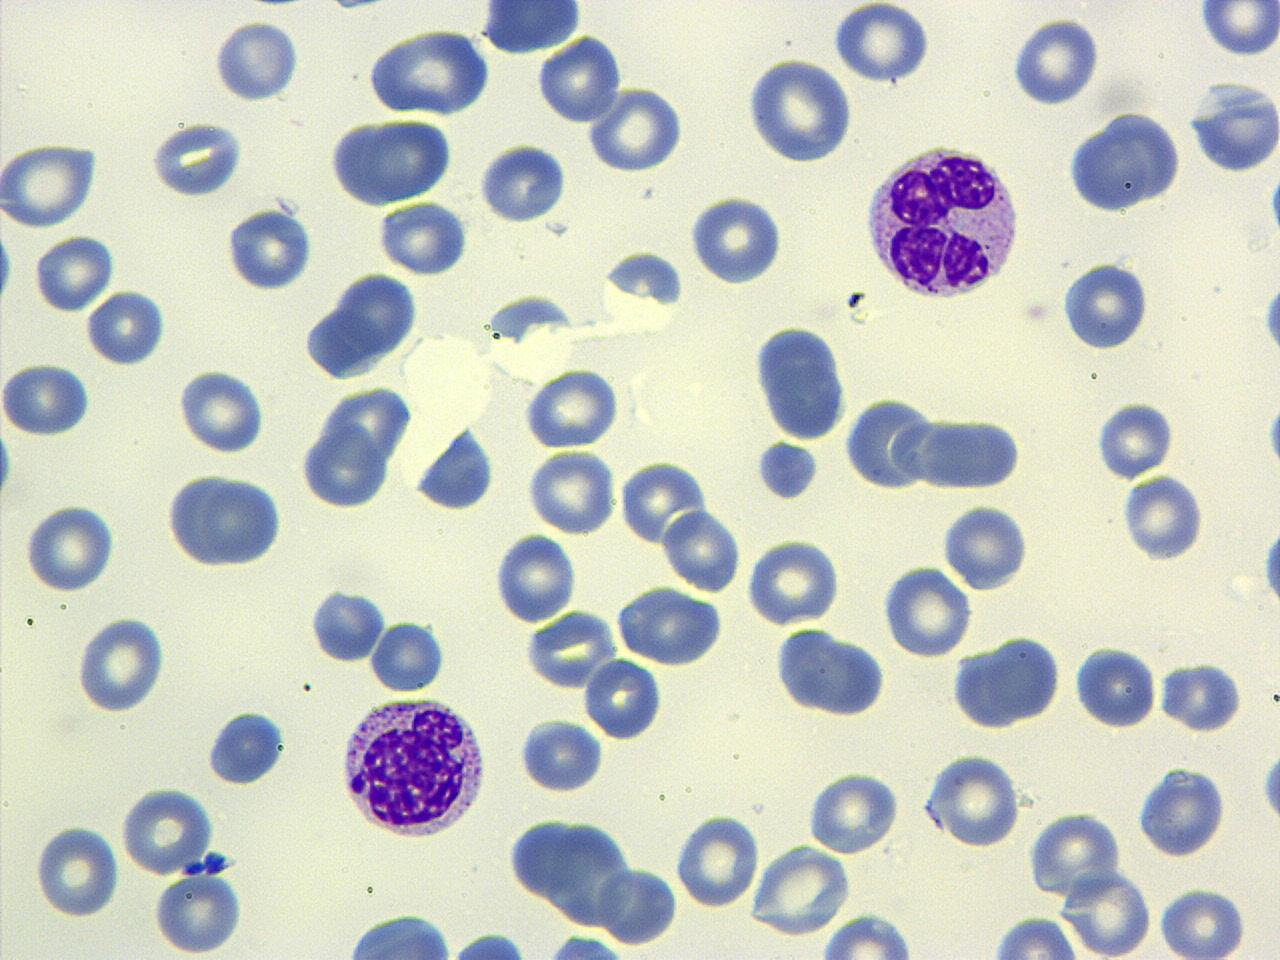Platelets: (149, 864, 253, 954), (1008, 13, 1104, 110), (1060, 257, 1154, 352), (830, 2, 934, 85), (222, 203, 315, 292), (147, 120, 248, 198), (518, 713, 604, 797), (376, 201, 472, 275), (1091, 397, 1175, 481), (84, 288, 170, 367), (305, 585, 386, 665), (32, 235, 114, 312), (368, 618, 447, 692), (1167, 659, 1245, 733), (602, 247, 688, 307), (489, 292, 575, 348), (752, 437, 822, 501), (1260, 524, 1280, 614), (1260, 750, 1280, 826), (1260, 283, 1280, 358), (0, 229, 16, 304), (0, 428, 16, 500), (1263, 405, 1280, 471), (200, 850, 232, 878), (325, 0, 386, 14), (1267, 175, 1280, 233)
RBC: (4, 0, 319, 245), (365, 22, 491, 119), (745, 54, 855, 165), (326, 114, 453, 209), (176, 469, 286, 572), (922, 750, 1022, 850), (614, 582, 726, 670), (750, 842, 852, 936), (75, 613, 169, 715), (1008, 14, 1104, 112), (687, 191, 787, 285), (584, 84, 686, 176), (117, 783, 216, 876), (1135, 761, 1227, 861), (744, 535, 844, 627), (0, 139, 103, 228), (31, 820, 121, 921), (882, 562, 974, 659), (521, 364, 625, 448), (830, 1, 932, 86), (1059, 258, 1151, 352), (672, 810, 760, 908), (22, 502, 117, 592), (805, 768, 901, 856), (534, 32, 625, 124), (152, 867, 245, 957), (618, 456, 708, 548), (1063, 866, 1153, 958), (940, 501, 1030, 593), (526, 446, 618, 536), (146, 120, 249, 200), (1117, 472, 1207, 563), (176, 364, 269, 452), (212, 15, 302, 105), (492, 530, 576, 626), (525, 604, 616, 692), (478, 138, 571, 224), (223, 204, 313, 292), (1072, 642, 1158, 730), (374, 199, 472, 276), (516, 714, 604, 796), (0, 360, 93, 437), (662, 505, 742, 594), (922, 416, 1018, 490), (1092, 396, 1176, 480), (1157, 882, 1247, 960), (596, 863, 678, 948), (584, 656, 664, 742), (32, 232, 114, 314), (85, 286, 167, 368), (368, 616, 447, 694), (1169, 660, 1243, 732), (976, 912, 1086, 958), (818, 910, 920, 959), (1198, 1, 1278, 57)
WBC: (340, 0, 957, 436), (859, 138, 1027, 306), (334, 688, 494, 841), (298, 382, 414, 514), (160, 466, 290, 576), (305, 268, 428, 382), (1063, 106, 1187, 218), (325, 114, 460, 209), (744, 53, 856, 164), (751, 320, 852, 442), (366, 23, 494, 118), (948, 632, 1066, 733), (770, 622, 892, 718), (614, 582, 731, 670), (1184, 75, 1278, 176), (830, 0, 938, 86), (149, 866, 248, 958), (1135, 764, 1227, 860), (210, 16, 305, 104), (411, 421, 500, 514), (477, 139, 569, 225), (2, 358, 97, 437), (204, 706, 288, 788), (378, 202, 471, 276), (306, 584, 387, 666), (476, 2, 588, 58), (332, 910, 458, 958), (972, 914, 1088, 958), (530, 932, 638, 960), (440, 928, 539, 958), (1259, 274, 1280, 362)
